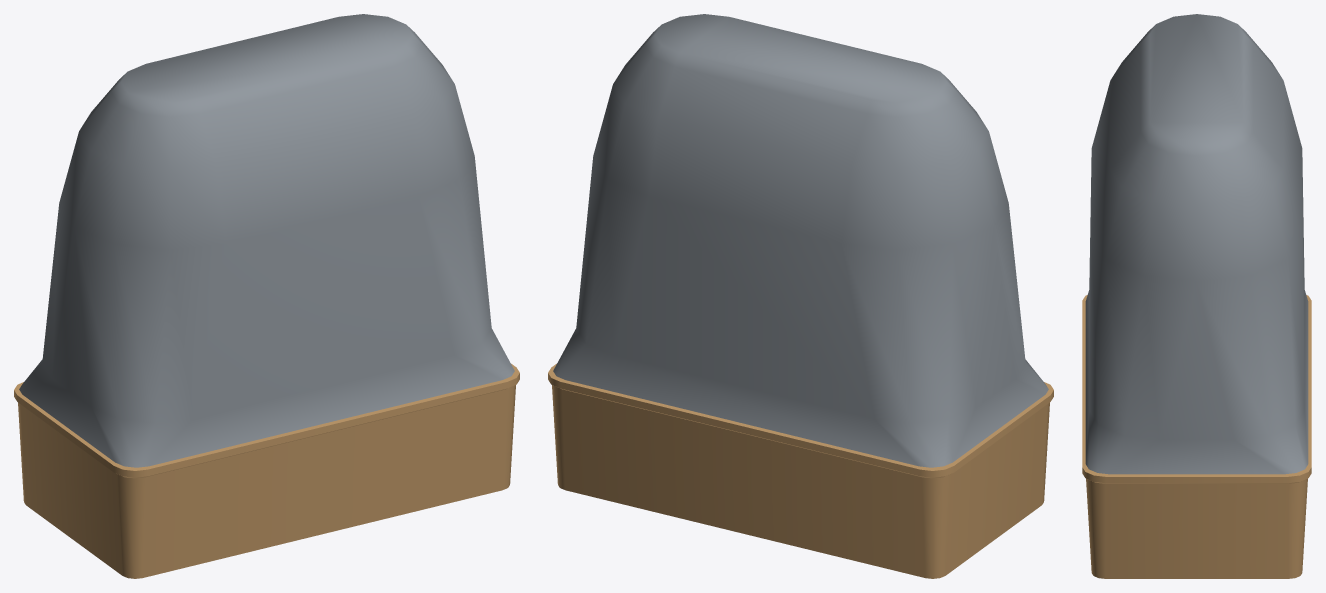
File: pack_repuestos.glb
3 views of the same model, side by side, from view 1: azimuth 30°, elevation 25°; view 2: azimuth 150°, elevation 25°; view 3: azimuth 270°, elevation 25° (orthographic). The views are drawn at different scales.
Parts seen in each view (by area): view 1: pack_repuestos; view 2: pack_repuestos; view 3: pack_repuestos.
Boxes of the visible parts, <box> form: pack_repuestos: <box>14,14,519,578</box>; pack_repuestos: <box>548,14,1053,578</box>; pack_repuestos: <box>1082,14,1311,578</box>.
Bounding box in the file's own units: 0.188 × 0.194 × 0.098.
